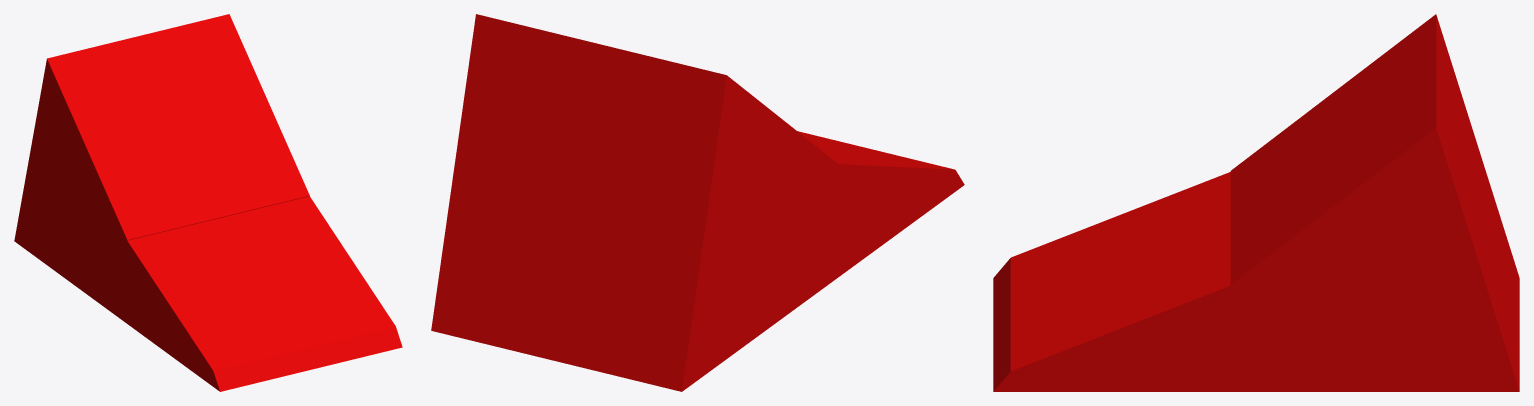
Rendered from SM_Prop_Ramp_03_Collision.fbx.
3 views of the same model, side by side, from view 1: azimuth 30°, elevation 25°; view 2: azimuth 150°, elevation 25°; view 3: azimuth 270°, elevation 25° (orthographic). The views are drawn at different scales.
Parts seen in each view (by area): view 1: SM_Prop_Ramp_03_Collision; view 2: SM_Prop_Ramp_03_Collision; view 3: SM_Prop_Ramp_03_Collision.
Part boxes in pixels (<box>): SM_Prop_Ramp_03_Collision: <box>14,14,402,391</box>; SM_Prop_Ramp_03_Collision: <box>431,14,964,391</box>; SM_Prop_Ramp_03_Collision: <box>993,14,1519,391</box>.
Size of the model in its own units: 162 by 175 by 316.
